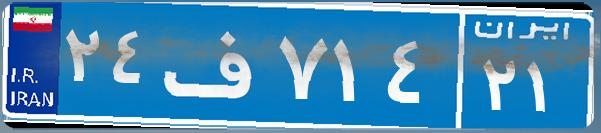1: (330, 28, 385, 110), (525, 38, 570, 115)
2: (57, 26, 110, 107), (475, 38, 525, 113)
4: (385, 28, 445, 110), (110, 28, 158, 105)
7: (273, 28, 330, 110)
ف: (158, 15, 273, 115)
